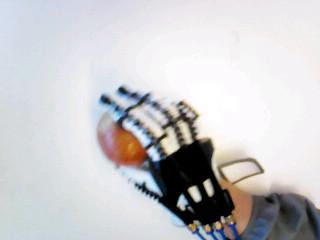apple: (96, 109, 148, 167)
hand: (99, 85, 235, 233)
